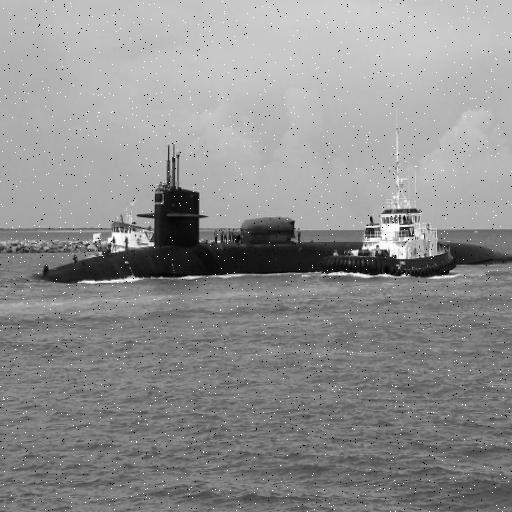submarine: (1, 144, 512, 281)
